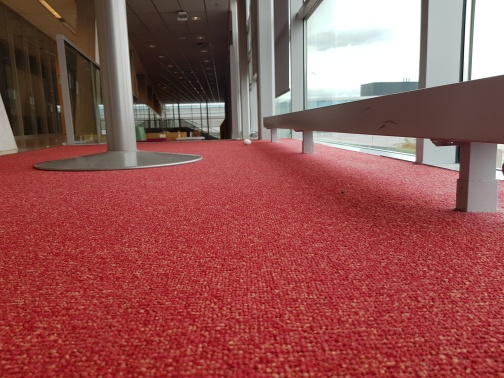egg: (242, 138, 253, 145)
